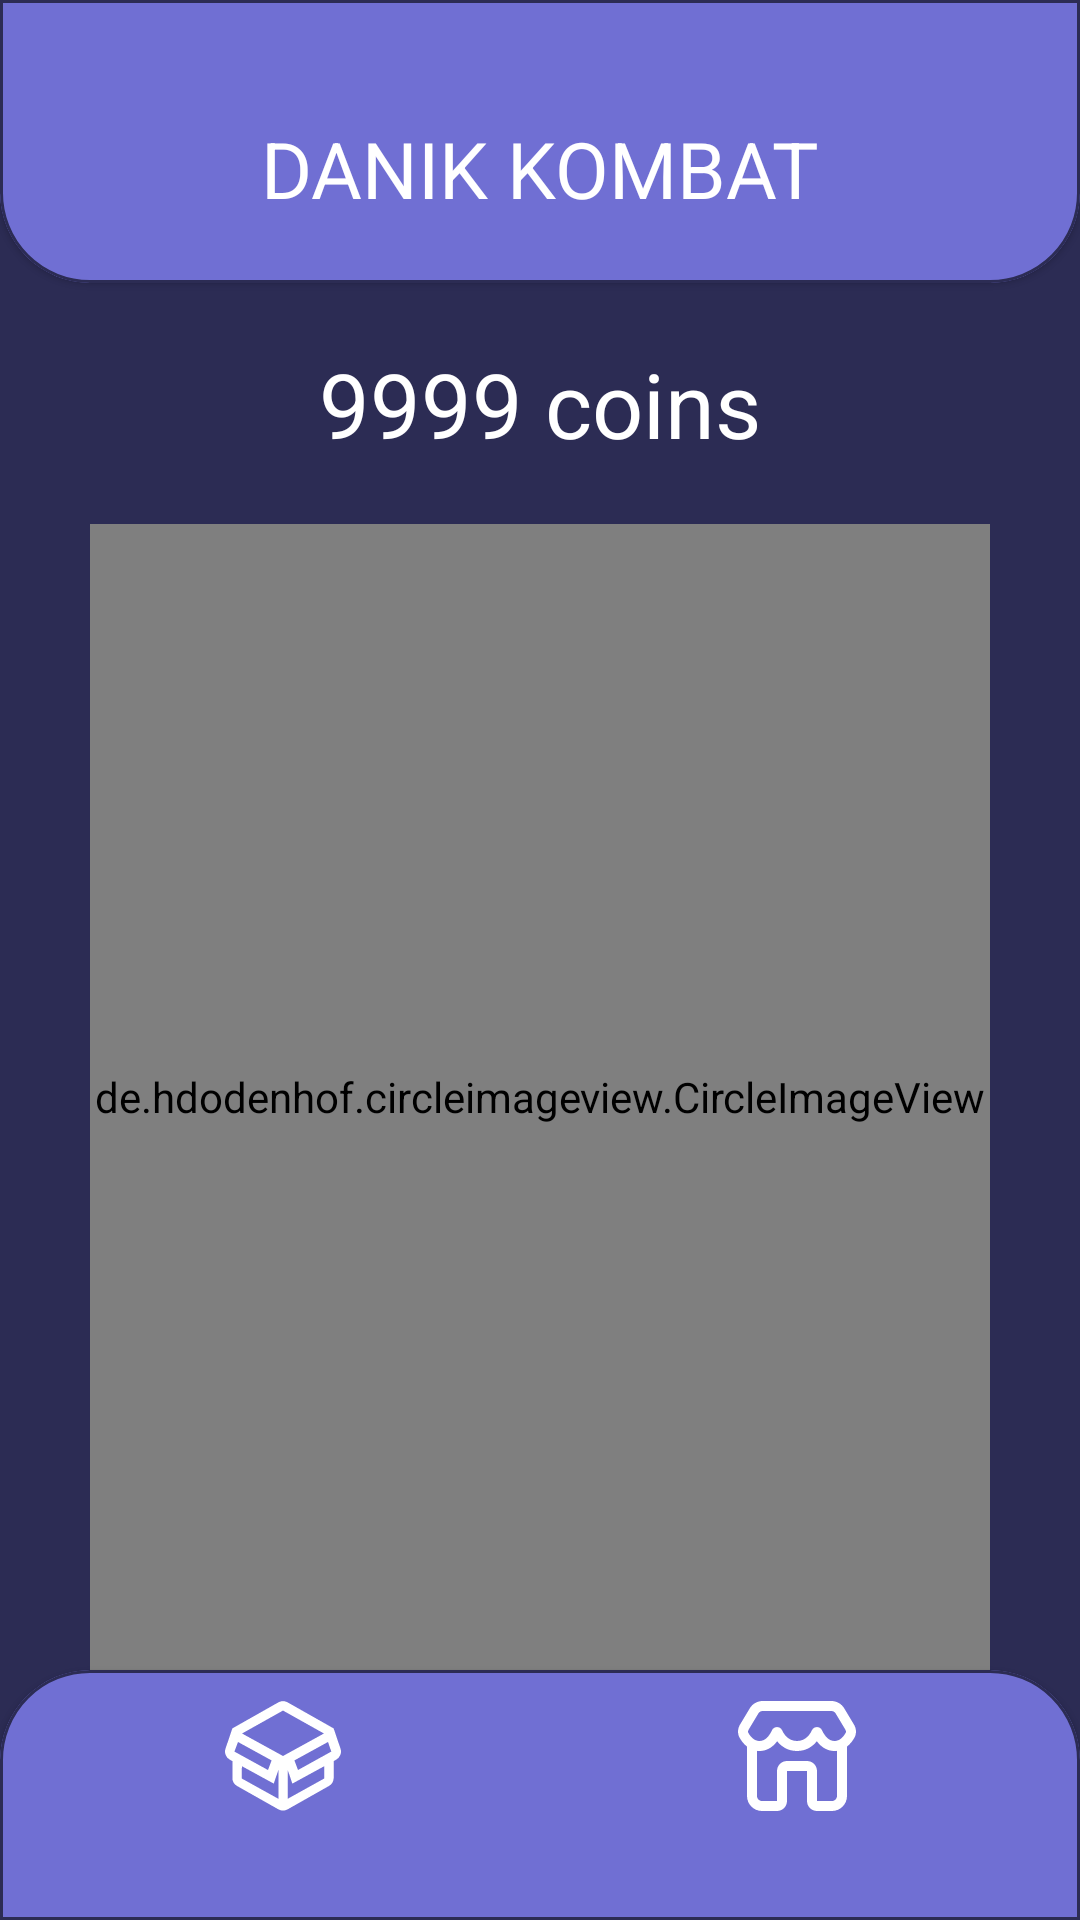

Point at icon controls on the screen. Image size 1080 × 1920, points as (x,y).
inventory: (283,1756)
shop: (797,1756)
